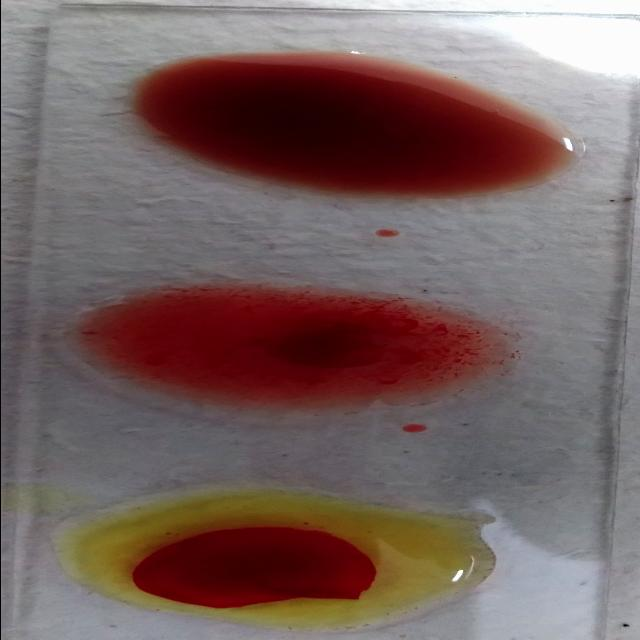B: (57, 489, 490, 626)
D: (51, 284, 512, 420)
